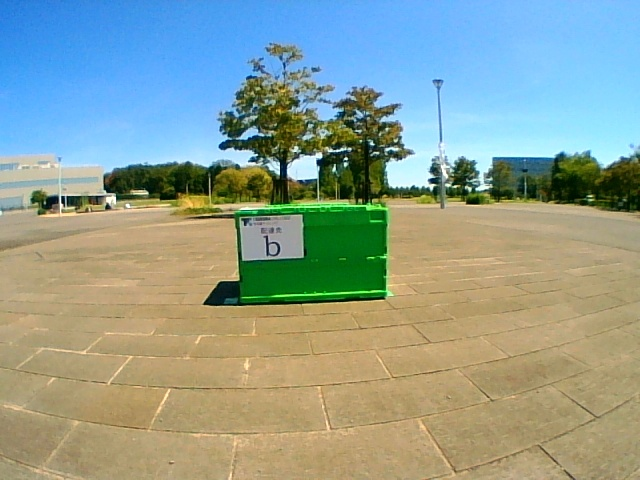green_box: (235, 204, 389, 304)
tag_b: (242, 216, 303, 259)
